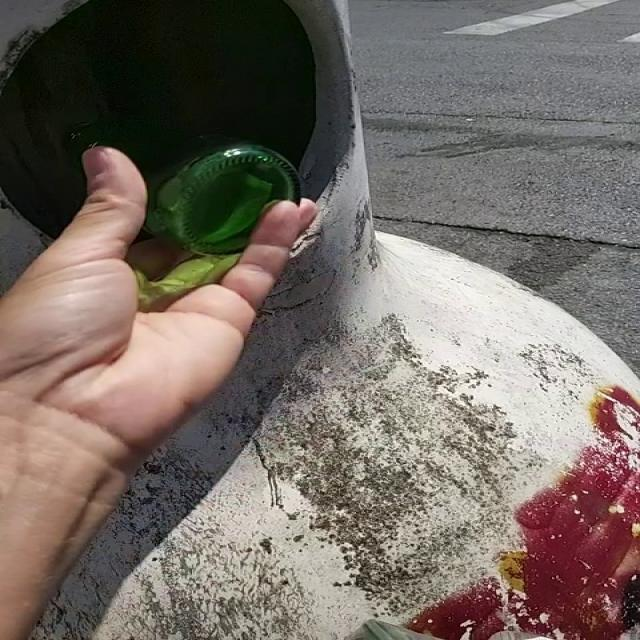glass: (67, 124, 299, 255)
